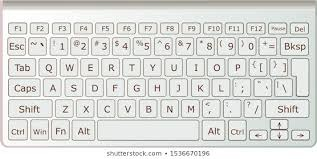keyboard: (7, 18, 316, 143)
